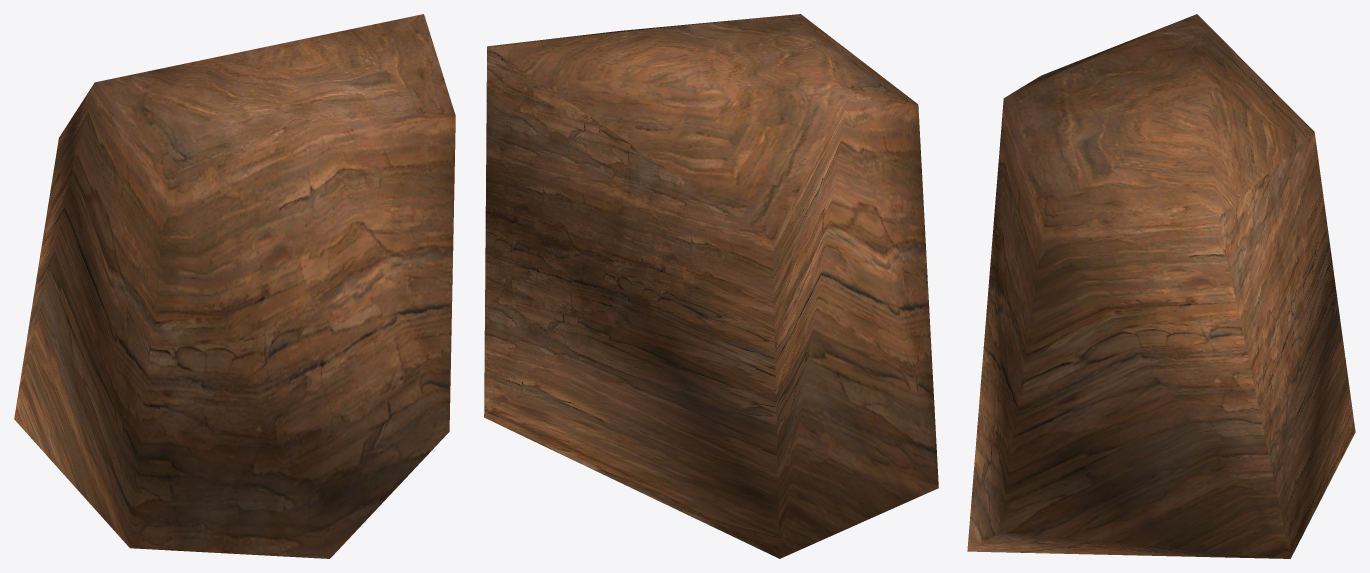
File: rock_tatt_jundland_boulder_l4.fbx
The picture shows the model from 3 angles, left to right: view 1: azimuth 30°, elevation 25°; view 2: azimuth 150°, elevation 25°; view 3: azimuth 270°, elevation 25°; orthographic projection. The views are drawn at different scales.
Visible parts, largest first — view 1: mesh_node; view 2: mesh_node; view 3: mesh_node.
Boxes of the visible parts, <box> form: mesh_node: <box>14,14,455,558</box>; mesh_node: <box>484,14,938,558</box>; mesh_node: <box>967,14,1355,558</box>.
Bounding box in the file's own units: 2.02 × 2.28 × 1.71.
